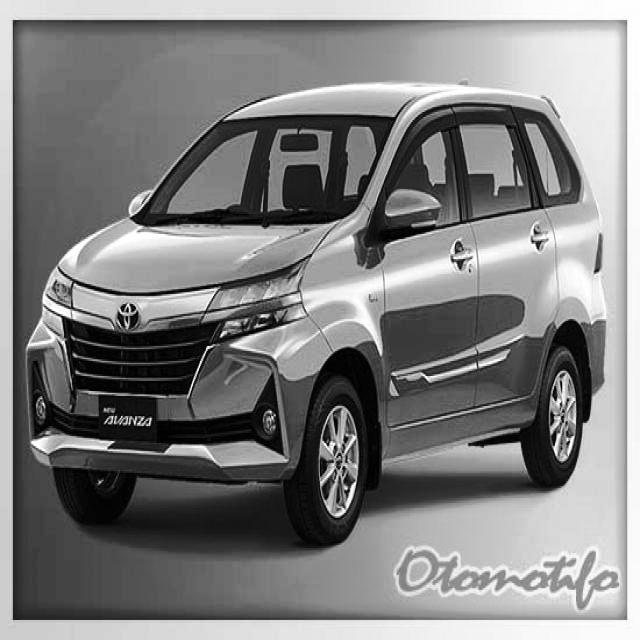Car: (31, 70, 607, 533)
